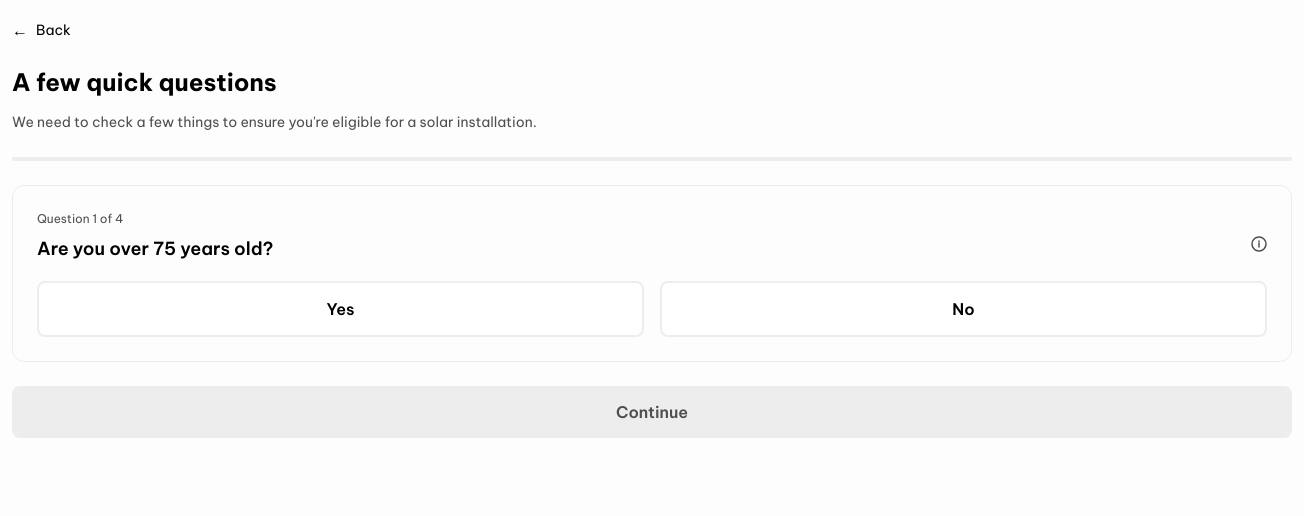
Scenario: EligibilityQuestionsPage › advances to next question when answer is selected
Click the button "No": (964,309) [660,281,1267,337]
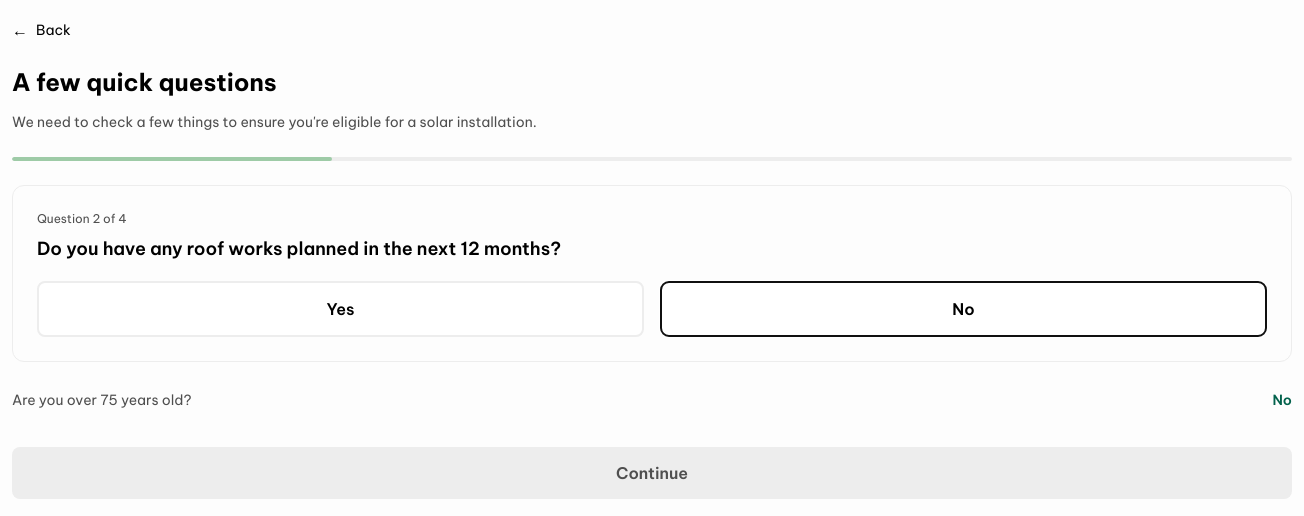
Expected: the heading "Do you have any roof works planned in the next 12 months?" is shown, [37,237,561,260]
